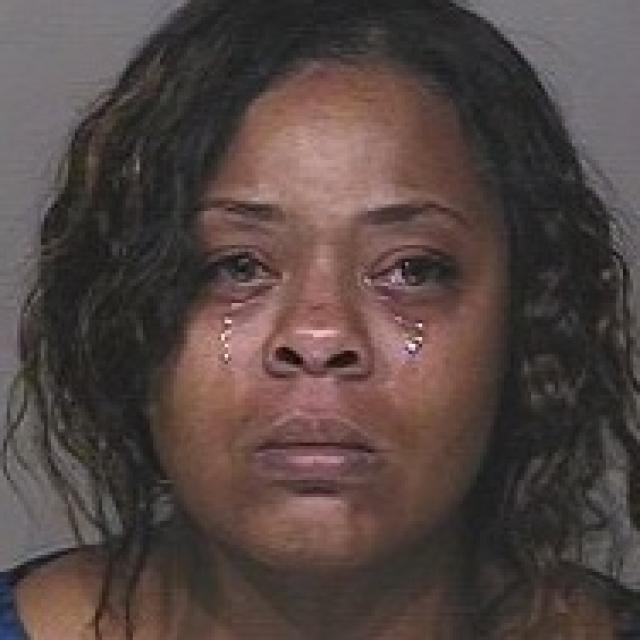Depress: (148, 68, 524, 564)
